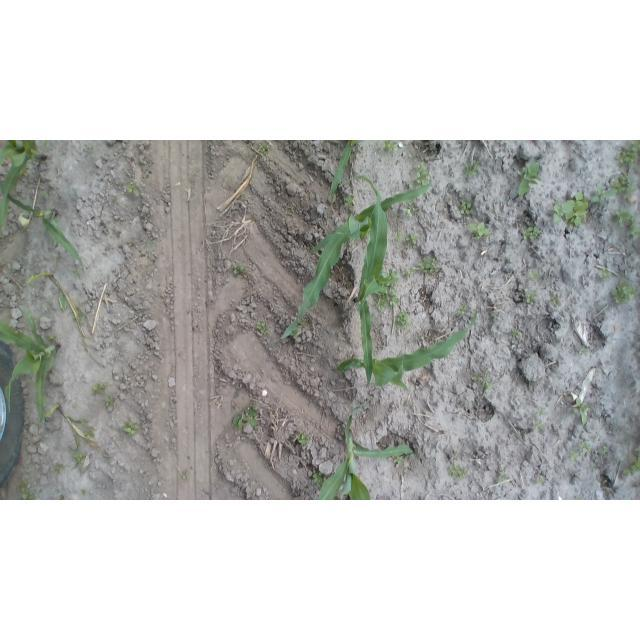Maize: (283, 185, 434, 342), (334, 308, 478, 391), (341, 176, 389, 392), (314, 404, 415, 500), (0, 185, 86, 270), (0, 309, 58, 424), (0, 140, 46, 246), (331, 141, 361, 208)
Weeds: (562, 189, 590, 231), (374, 269, 399, 312), (615, 205, 640, 241), (518, 162, 540, 197), (612, 278, 640, 305), (609, 172, 635, 200), (616, 141, 640, 170), (233, 408, 259, 430), (413, 161, 430, 187), (573, 398, 589, 425), (469, 223, 492, 240), (288, 320, 306, 339), (593, 186, 614, 202), (419, 257, 440, 273), (449, 463, 467, 479), (522, 226, 542, 240), (404, 232, 419, 250), (466, 160, 481, 178), (578, 438, 593, 454), (296, 430, 311, 446), (123, 422, 139, 437), (396, 312, 410, 329), (74, 451, 87, 468), (482, 371, 493, 390), (313, 472, 326, 488), (381, 140, 398, 152), (255, 321, 269, 335), (125, 182, 140, 195), (630, 455, 640, 474), (597, 268, 611, 281), (402, 266, 416, 279), (22, 488, 37, 500), (233, 263, 248, 275), (553, 201, 561, 223), (525, 292, 538, 305), (402, 203, 414, 217), (92, 384, 106, 395), (342, 195, 354, 206), (84, 427, 95, 439), (550, 296, 562, 307), (460, 202, 470, 215), (258, 143, 271, 153), (146, 238, 155, 252), (392, 231, 404, 241), (569, 450, 579, 462), (393, 453, 403, 465), (530, 270, 539, 283), (75, 313, 85, 324), (51, 465, 63, 474), (457, 306, 469, 315), (533, 420, 543, 430), (536, 476, 546, 486), (498, 470, 506, 482), (106, 397, 115, 407), (472, 374, 481, 383), (72, 268, 80, 278), (622, 466, 630, 476), (21, 171, 30, 179), (85, 144, 94, 152), (80, 419, 89, 427), (579, 348, 589, 355), (513, 328, 520, 338), (49, 334, 57, 342), (43, 190, 50, 199), (40, 140, 50, 146), (183, 472, 190, 480), (539, 411, 546, 416), (604, 446, 609, 453), (285, 211, 291, 216), (80, 489, 86, 494), (635, 446, 640, 451), (575, 497, 582, 500), (73, 404, 78, 408), (24, 480, 28, 484)
